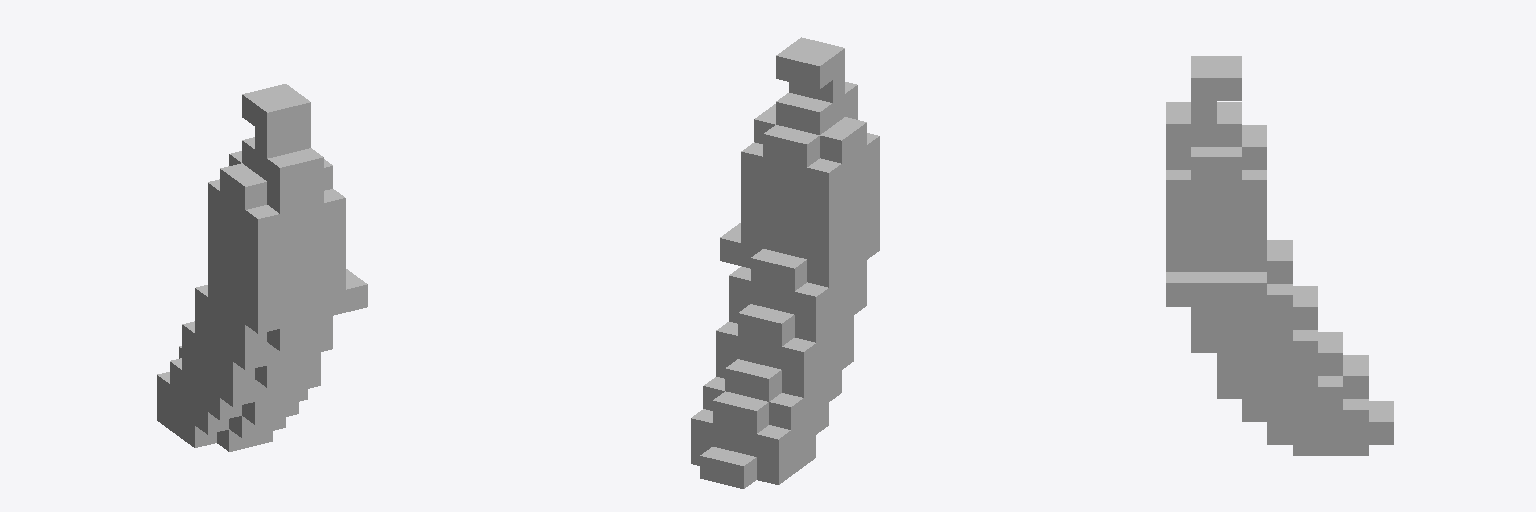
The model's file is banana.obj.
3 renders of one model, left to right at view 1: azimuth 30°, elevation 25°; view 2: azimuth 150°, elevation 25°; view 3: azimuth 270°, elevation 25°, orthographic.
Parts seen in each view (by area): view 1: banana; view 2: banana; view 3: banana.
Boxes of the visible parts, <box> form: banana: <box>157,84,367,451</box>; banana: <box>691,37,879,488</box>; banana: <box>1166,56,1393,455</box>.
Size of the model in its own units: 5 by 16 by 9.